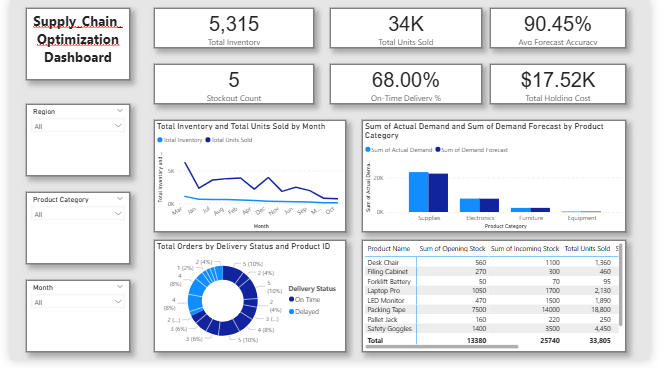

The dashboard page shown, as its layout file describes it:
{"tool":"powerbi","page":{"name":"Page 1","canvas":[1280,720],"ordinal":0},"visuals":[{"type":"textbox","box":[32,16,208,144],"z":0},{"type":"card","fields":{"Values":["_Measures.Total Inventory"]},"box":[288,16,320,80],"z":1},{"type":"lineChart","fields":{"Category":["Supply_Chain_Sample_Data.Month"],"Y":["_Measures.Total Inventory","_Measures.Total Units Sold"]},"box":[288,240,384,224],"z":7},{"type":"slicer","fields":{"Values":["Supply_Chain_Sample_Data.Region"]},"box":[32,208,208,144],"z":8},{"type":"slicer","fields":{"Values":["Supply_Chain_Sample_Data.Product Category"]},"box":[32,384,208,144],"z":9},{"type":"slicer","fields":{"Values":["Supply_Chain_Sample_Data.Month"]},"box":[32,560,208,144],"z":10},{"type":"clusteredColumnChart","fields":{"Category":["Supply_Chain_Sample_Data.Product Category"],"Y":["Sum(Supply_Chain_Sample_Data.Actual Demand)","Sum(Supply_Chain_Sample_Data.Demand Forecast)"]},"box":[704,240,528,224],"z":11},{"type":"donutChart","fields":{"Category":["Supply_Chain_Sample_Data.Delivery Status"],"Y":["_Measures.Total Orders"],"Series":["Supply_Chain_Sample_Data.Product ID"]},"box":[288,480,384,224],"z":12},{"type":"pivotTable","fields":{"Rows":["Supply_Chain_Sample_Data.Product Name"],"Values":["Sum(Supply_Chain_Sample_Data.Opening Stock)","Sum(Supply_Chain_Sample_Data.Incoming Stock)","_Measures.Total Units Sold","Sum(Supply_Chain_Sample_Data.Closing Stock)","Sum(Supply_Chain_Sample_Data.Reorder Level)"]},"box":[704,480,528,224],"z":13},{"type":"card","fields":{"Values":["_Measures.Total Units Sold"]},"box":[640,16,304,80],"z":15},{"type":"card","fields":{"Values":["Supply_Chain_Sample_Data.Avg Forecast Accuracy"]},"box":[960,16,272,80],"z":16},{"type":"card","fields":{"Values":["Supply_Chain_Sample_Data.Stockout Count"]},"box":[288,128,320,80],"z":17},{"type":"card","fields":{"Values":["Supply_Chain_Sample_Data.On-Time Delivery %"]},"box":[640,128,304,80],"z":18},{"type":"card","fields":{"Values":["Supply_Chain_Sample_Data.Total Holding Cost"]},"box":[960,128,272,80],"z":19}]}

Visuals, with their boxes in screenshot pixels (x1, y1, x2, y2), scaled from the page's 1280x720 canvas onto the 665x368 screenshot:
textbox: (17,8,125,82)
card - _Measures.Total Inventory: (150,8,316,49)
lineChart - Supply_Chain_Sample_Data.Month x _Measures.Total Inventory: (150,123,349,237)
slicer - Supply_Chain_Sample_Data.Region: (17,106,125,180)
slicer - Supply_Chain_Sample_Data.Product Category: (17,196,125,270)
slicer - Supply_Chain_Sample_Data.Month: (17,286,125,360)
clusteredColumnChart - Supply_Chain_Sample_Data.Product Category x Sum(Supply_Chain_Sample_Data.Actual Demand): (366,123,640,237)
donutChart - Supply_Chain_Sample_Data.Delivery Status x _Measures.Total Orders: (150,245,349,360)
pivotTable - Supply_Chain_Sample_Data.Product Name x Sum(Supply_Chain_Sample_Data.Opening Stock): (366,245,640,360)
card - _Measures.Total Units Sold: (332,8,490,49)
card - Supply_Chain_Sample_Data.Avg Forecast Accuracy: (499,8,640,49)
card - Supply_Chain_Sample_Data.Stockout Count: (150,65,316,106)
card - Supply_Chain_Sample_Data.On-Time Delivery %: (332,65,490,106)
card - Supply_Chain_Sample_Data.Total Holding Cost: (499,65,640,106)
